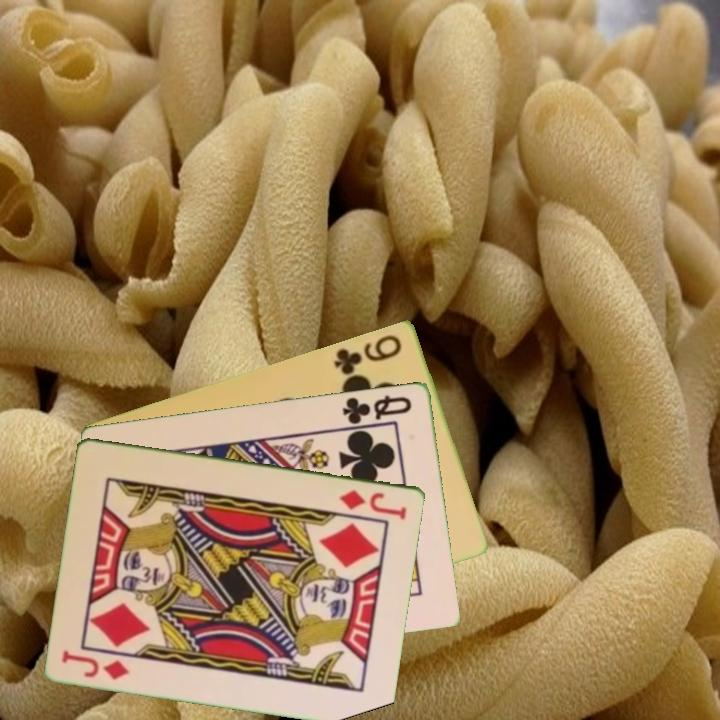9c: (330, 330, 405, 378)
Jd: (336, 485, 410, 522), (59, 646, 132, 682)
Qc: (339, 391, 415, 427)
